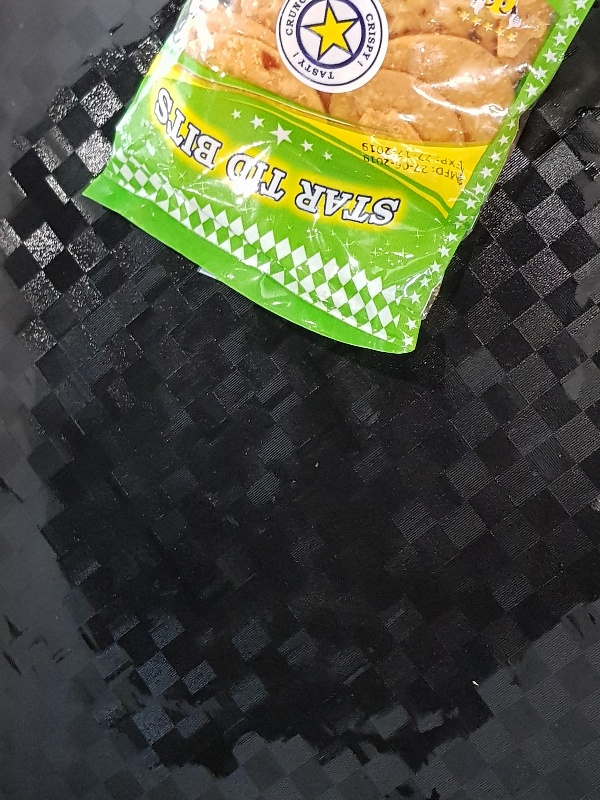Star Tidbits 'O' Ring: (78, 1, 597, 354)
